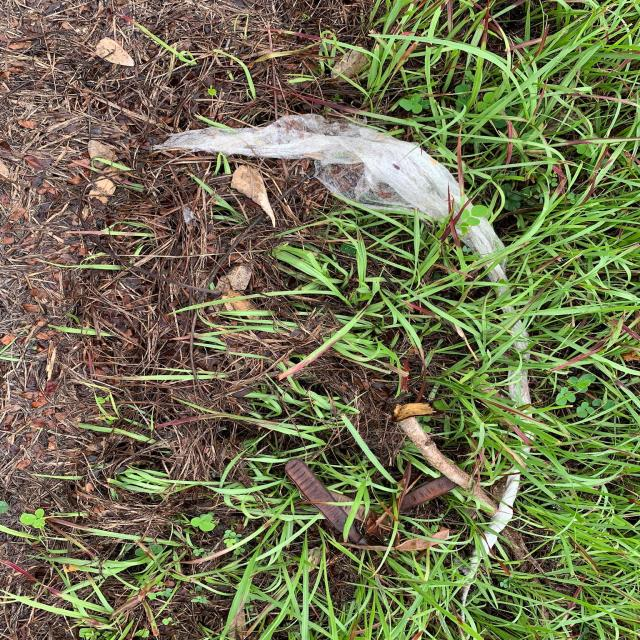litter: (132, 98, 572, 615)
